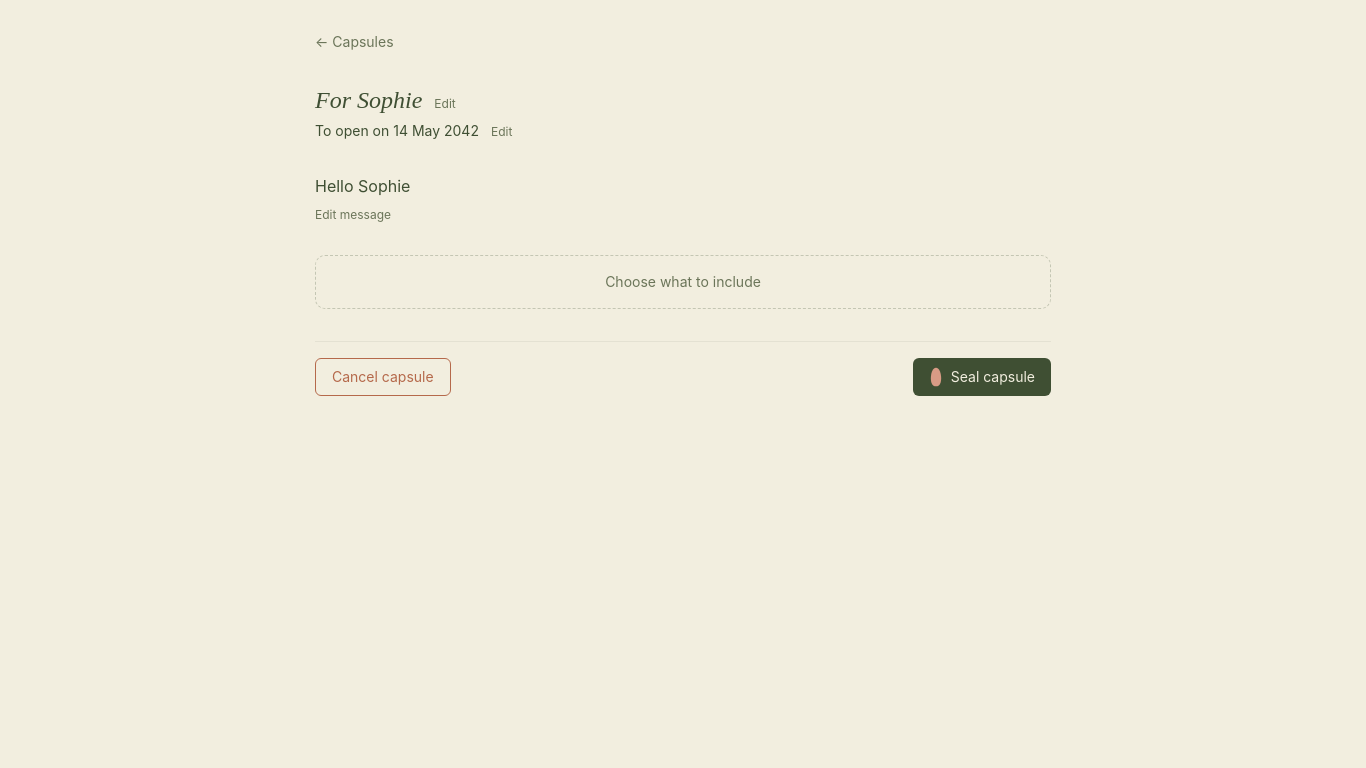
it: CapsuleDetailPage — inline edit unlock date › saves date from modal
The width and height of the screenshot is (1366, 768).
Expected: the text "For Sophie" is shown, top-left (315, 84), bottom-right (422, 117)
Click the button "Edit" next to "14 May 2042" at (502, 132), box top-left (491, 124), bottom-right (512, 140)
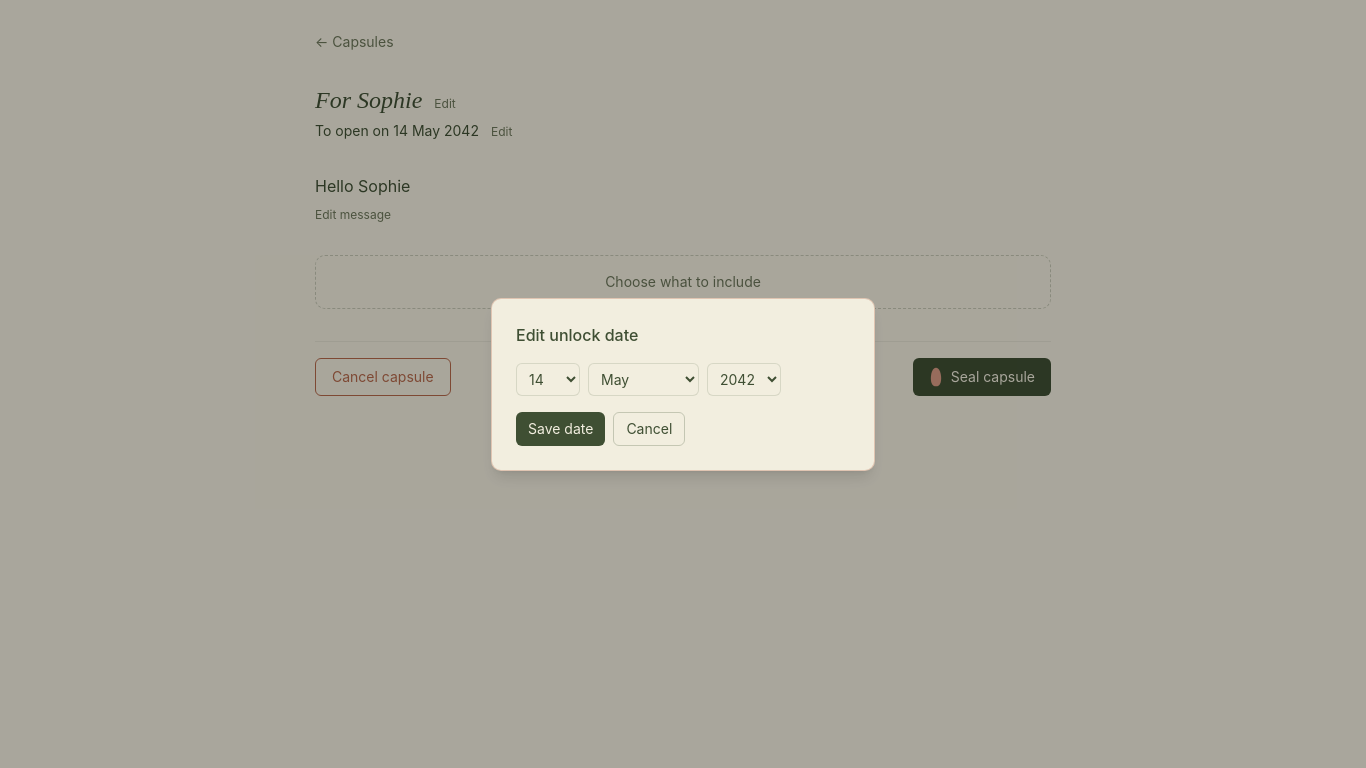
Expected: the heading "Edit unlock date" is shown, top-left (516, 324), bottom-right (638, 344)
Select "25" in the dropdown named "Day" at (548, 379), box top-left (516, 362), bottom-right (580, 396)
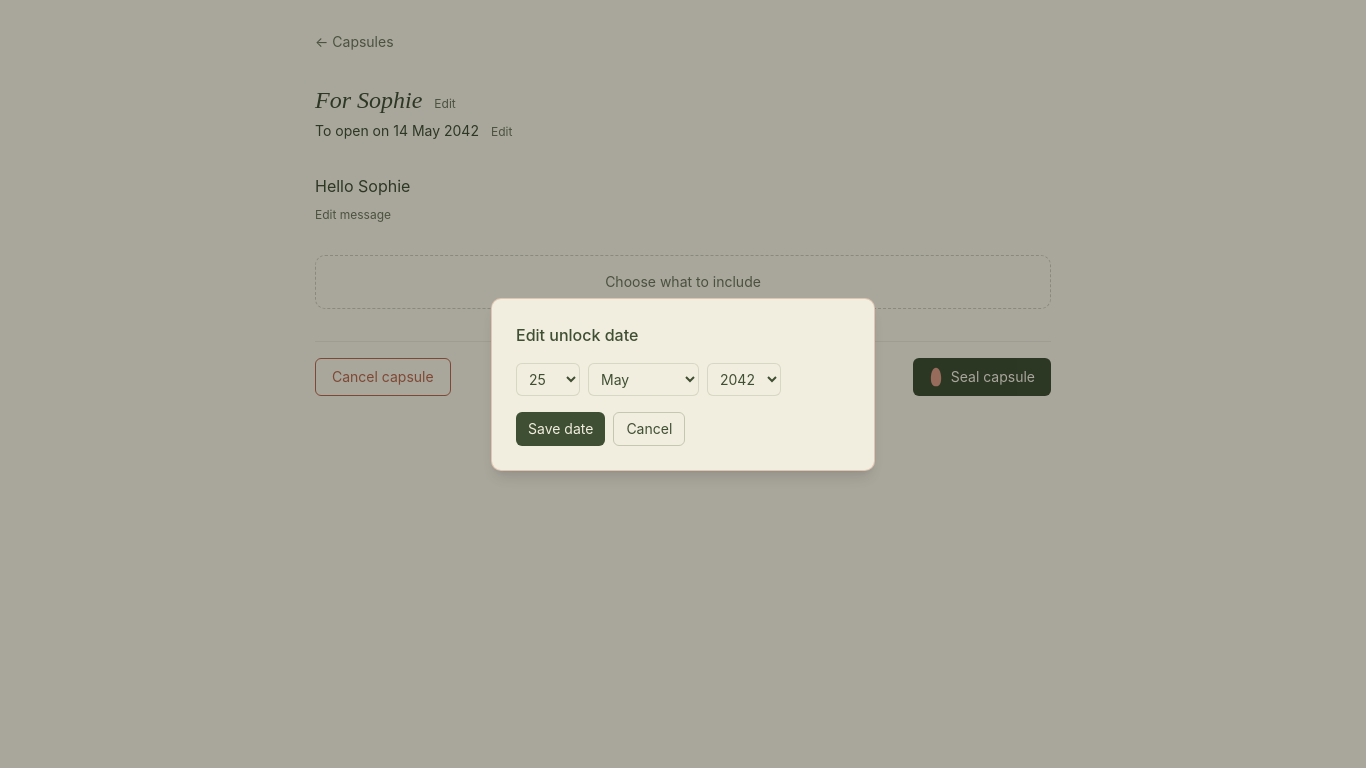
Select "December" in the dropdown named "Month" at (644, 379), box top-left (588, 362), bottom-right (699, 396)
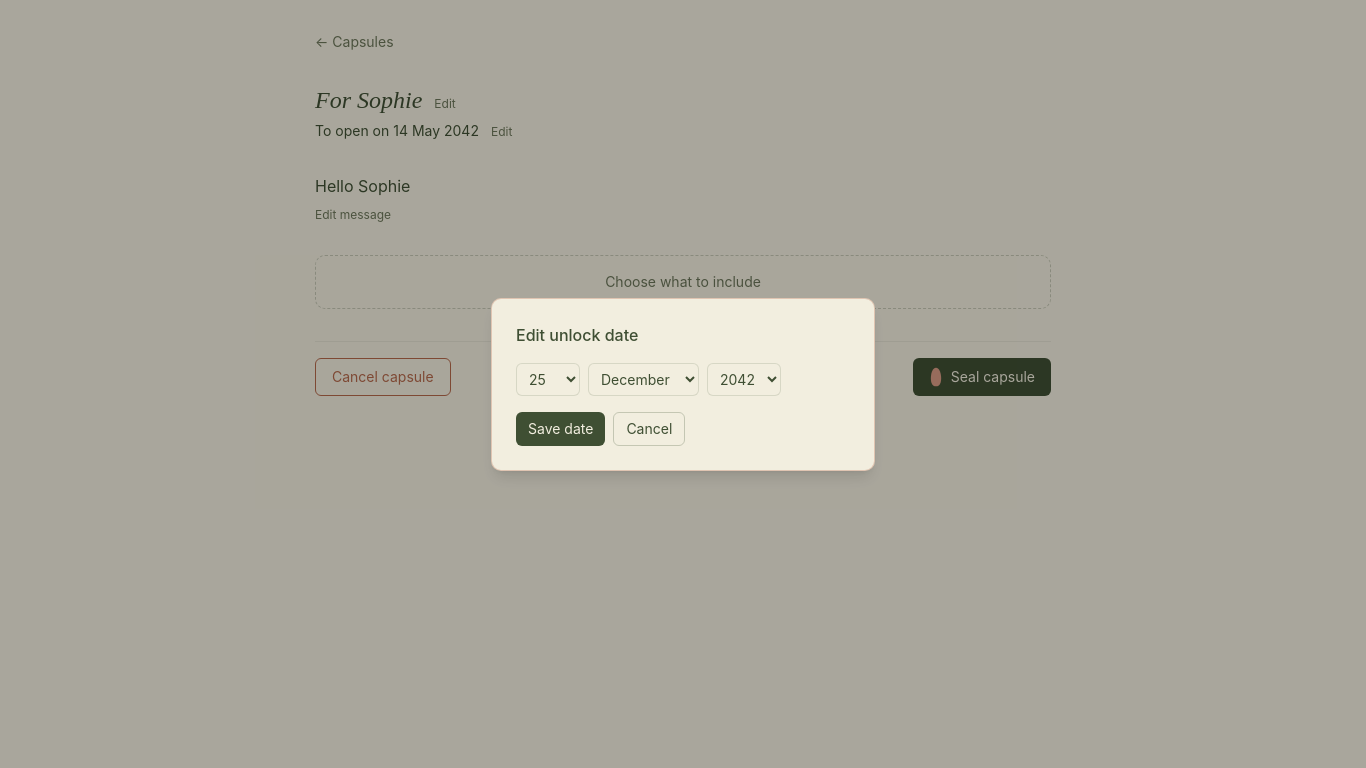
Select "2050" in the dropdown named "Year" at (744, 379), box top-left (707, 362), bottom-right (781, 396)
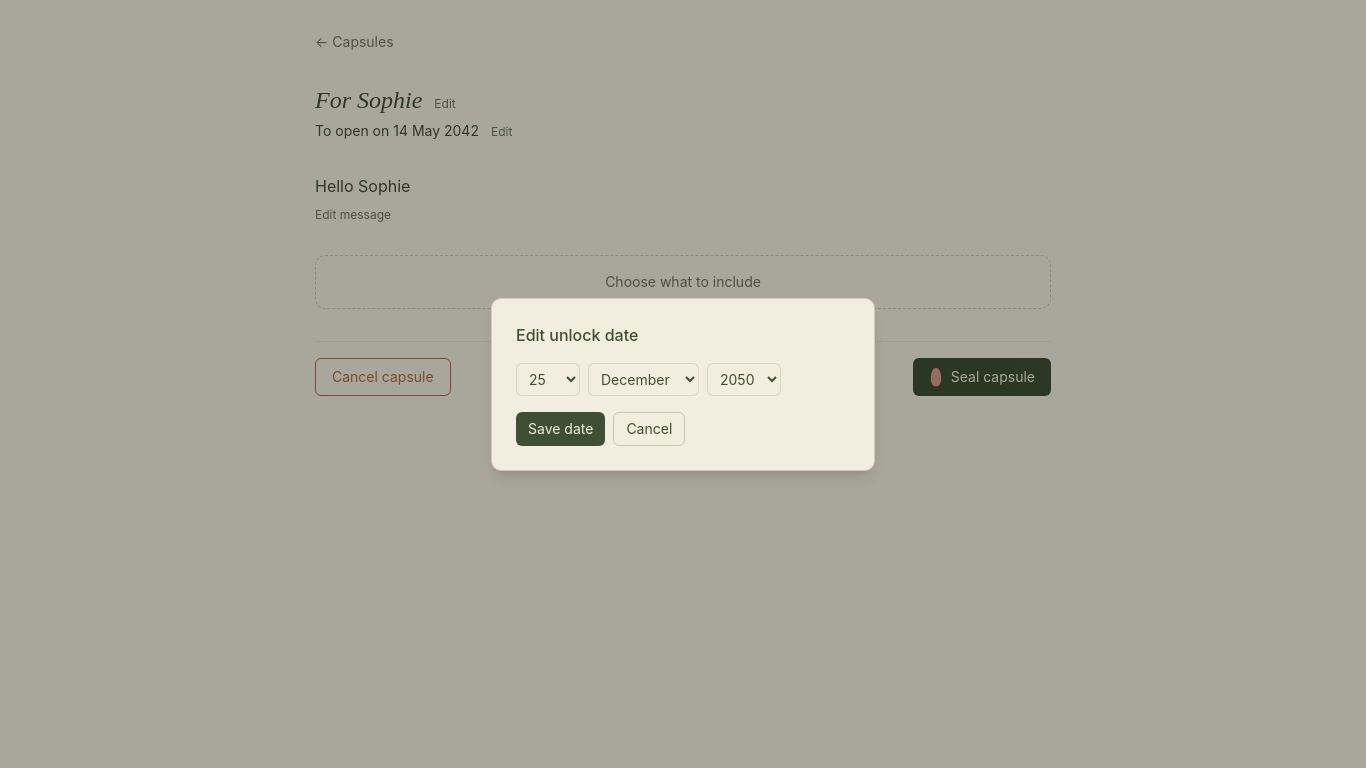
Click the button "Save date" at (561, 428), box top-left (516, 412), bottom-right (605, 446)
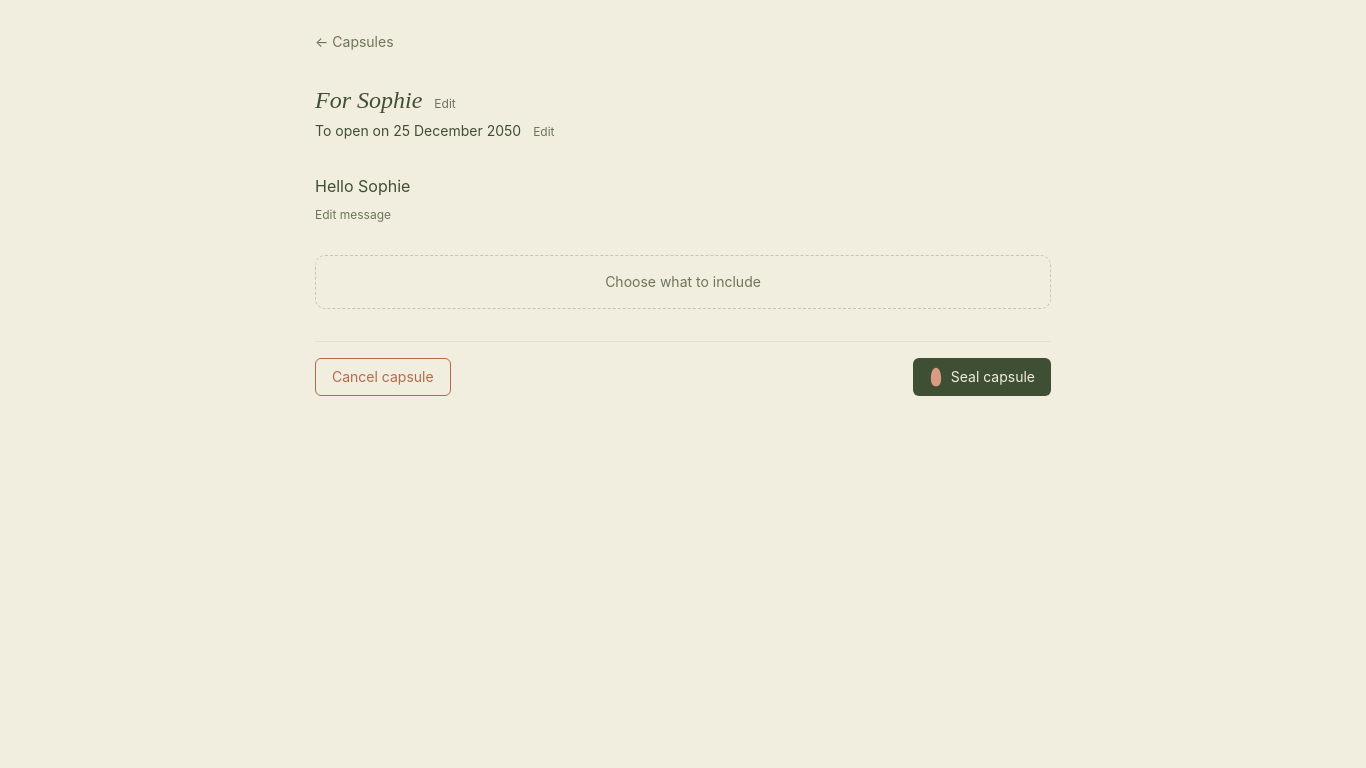
Expected: the heading "Edit unlock date" is gone
